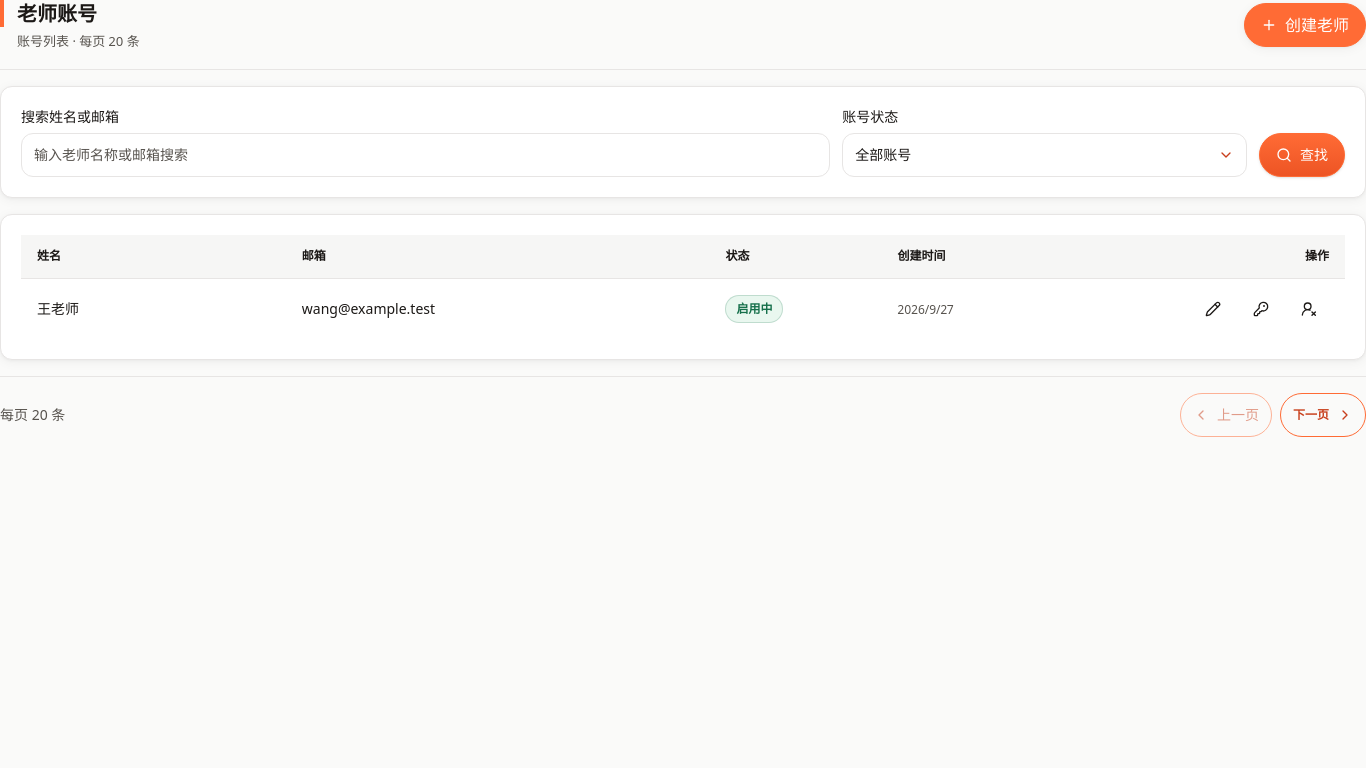
Test: create teacher inputs include leading icons and remain clearable
The width and height of the screenshot is (1366, 768).
Click the button "创建老师" at x=1305, y=25, box [1244, 3, 1365, 47]
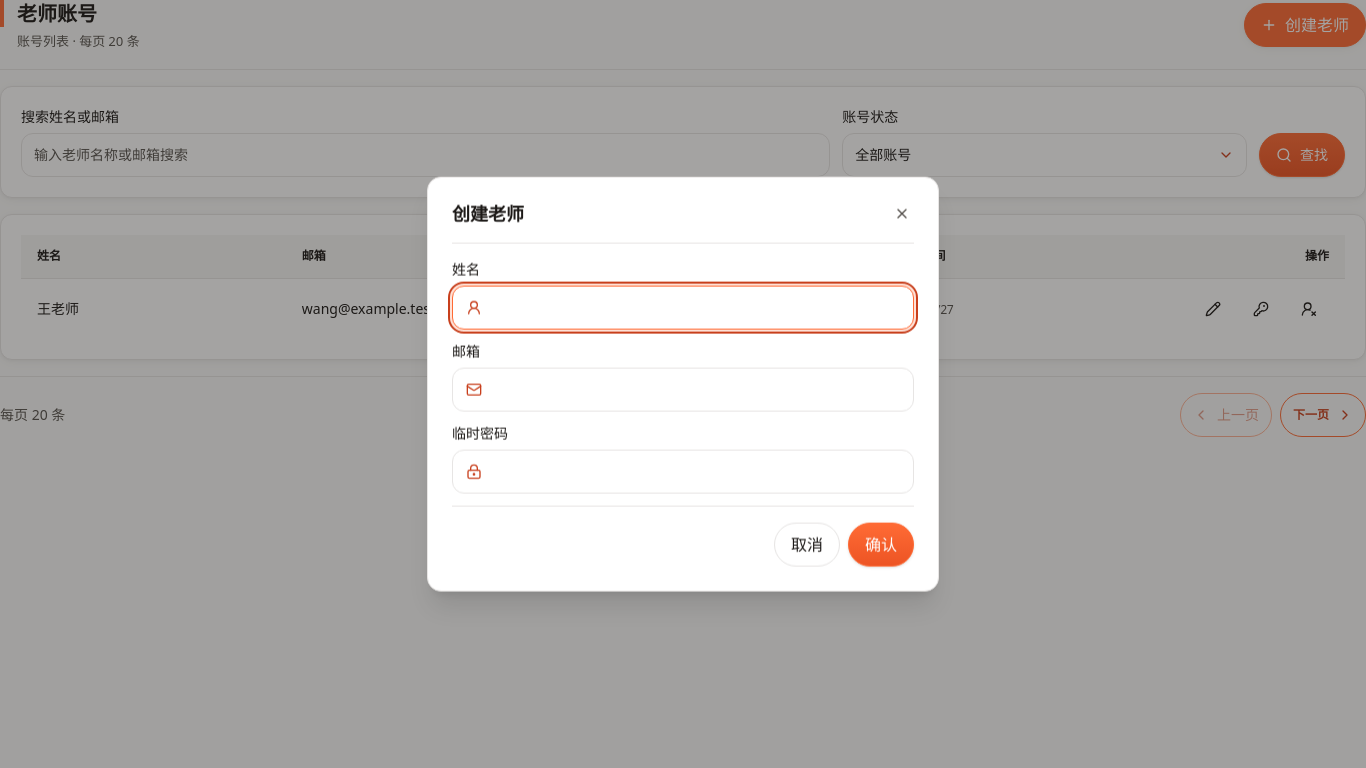
Expected: the button "确认" is shown, [848, 522, 914, 566]
Expected: the icon with class "lucide-user-round" is shown, [466, 299, 482, 315]
Expected: the icon with class "lucide-mail" is shown, [466, 381, 482, 397]
